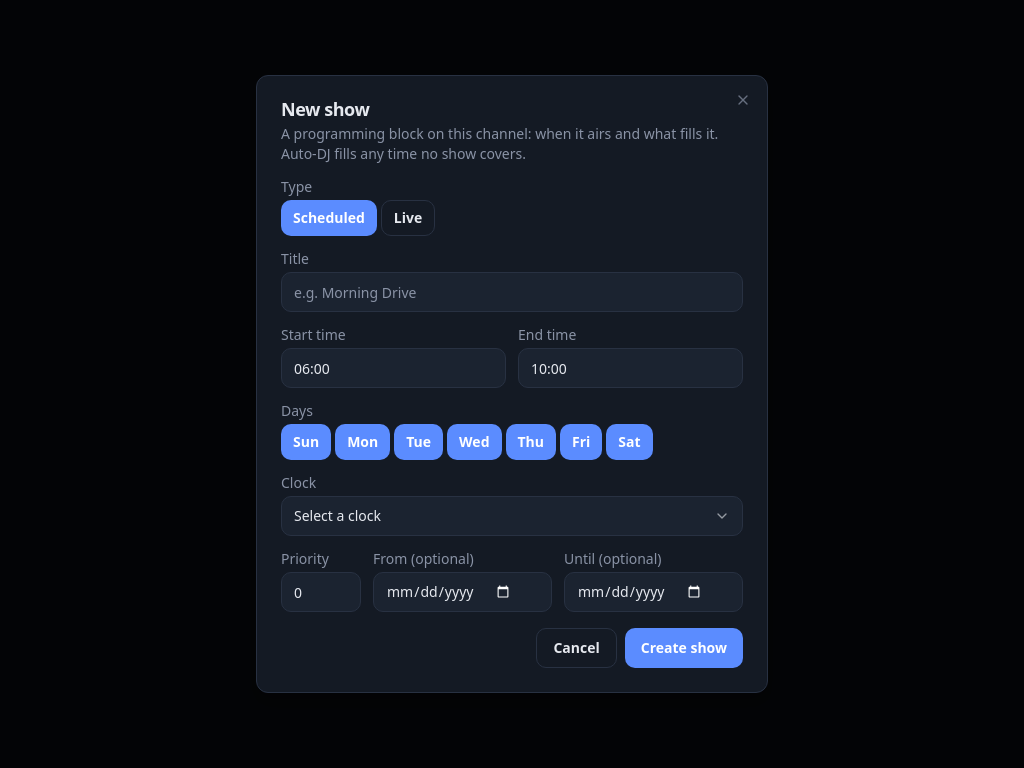
Scenario: ShowEditor (create) › blocks submit and surfaces a message when the title is empty
Step 1. Click the dropdown labelled "Select a clock" → [338, 516], box [281,496,743,536]
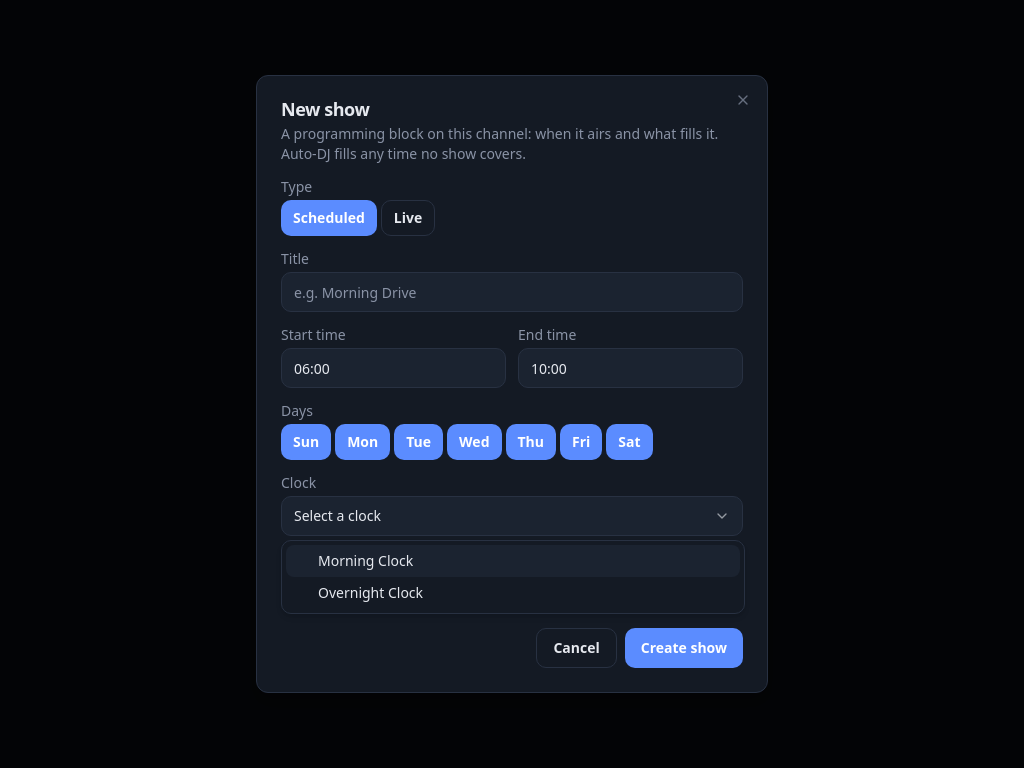
Step 2. Click the option "Morning Clock" → [366, 560], box [286,545,740,577]
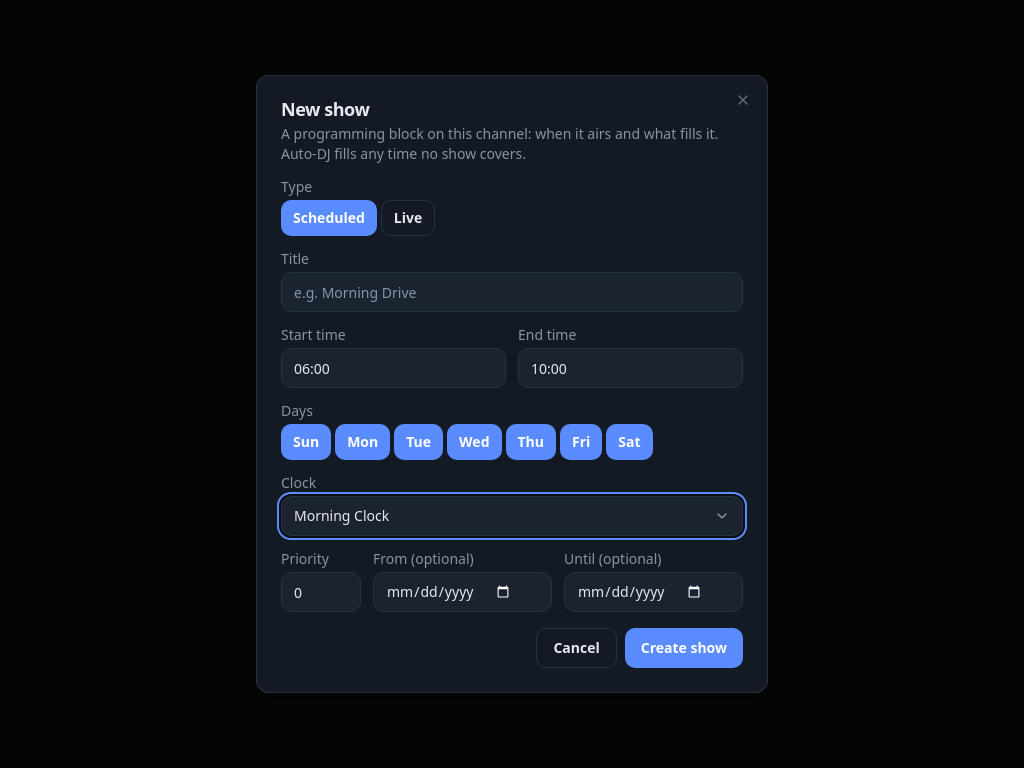
Step 3. Click the button "Create show" → [684, 648], box [625,628,743,668]
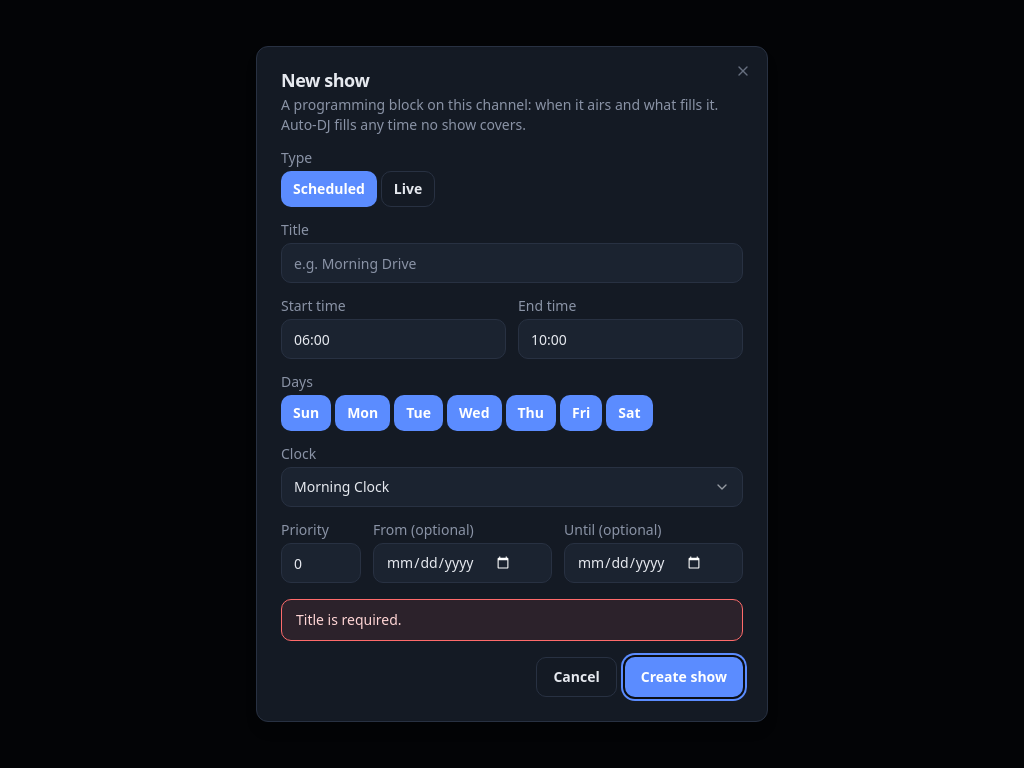
Expected: the text "Title is required." is shown, [281,599,743,641]
